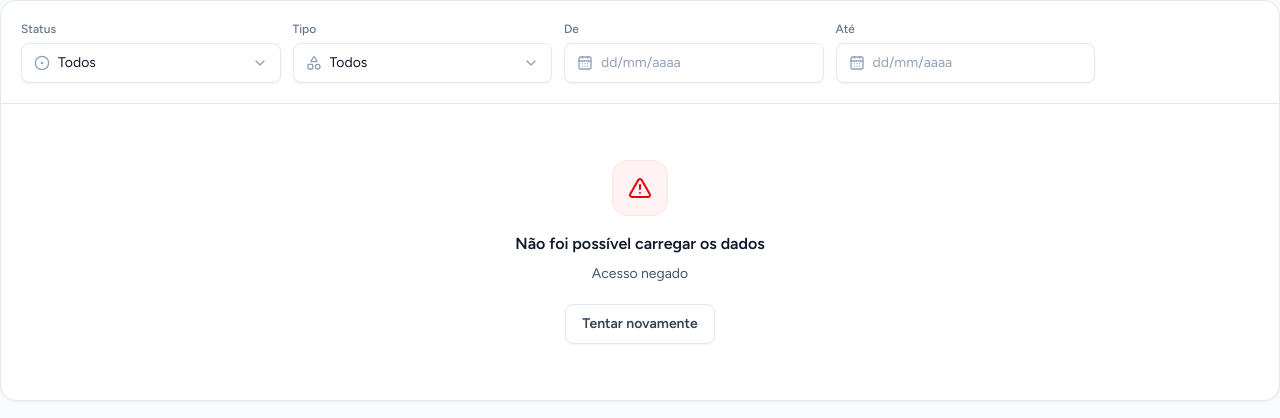
Scenario: TransactionsDashboard › mostra erro que não se resolve sozinho com opção de tentar de novo
Expected: the message shows "Acesso negado", [592,265,688,282]
Click the button "Tentar novamente".
click(640, 324)  # box [565,304,715,344]
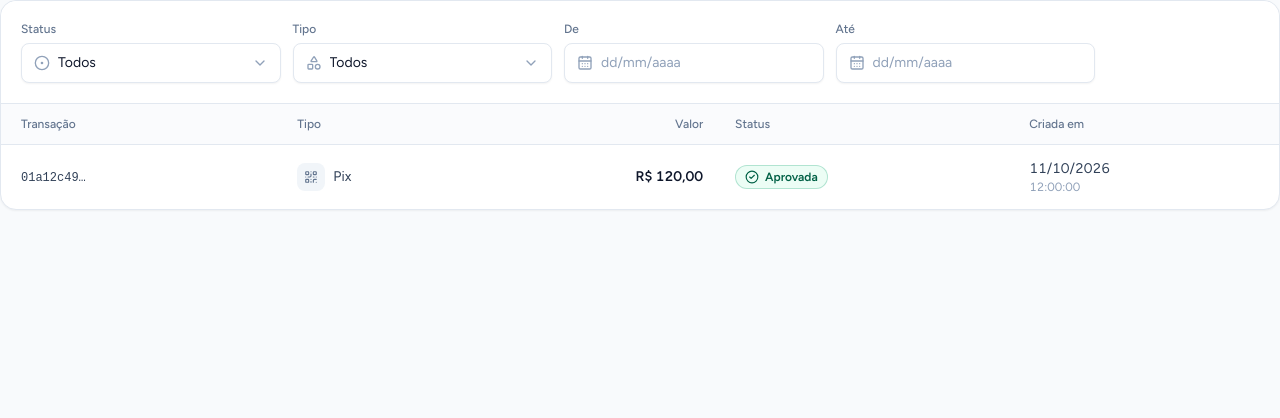
Expected: the table named "Transações" is shown, [1,104,1279,209]
